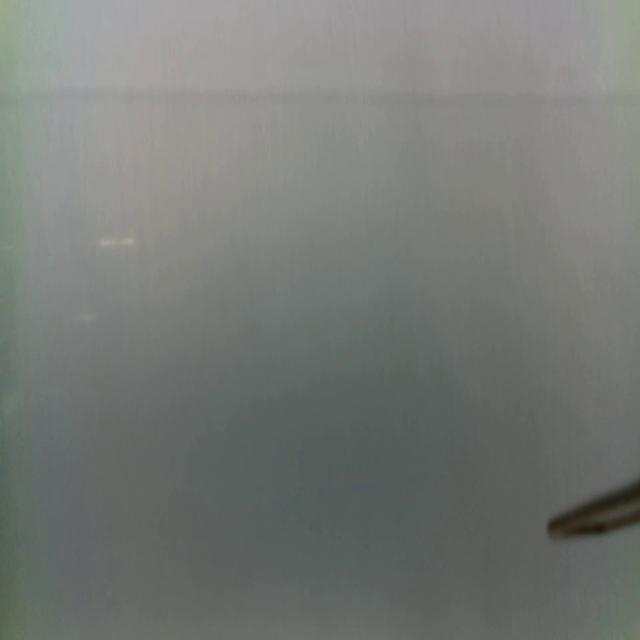color bleeding: (1, 77, 640, 131)
